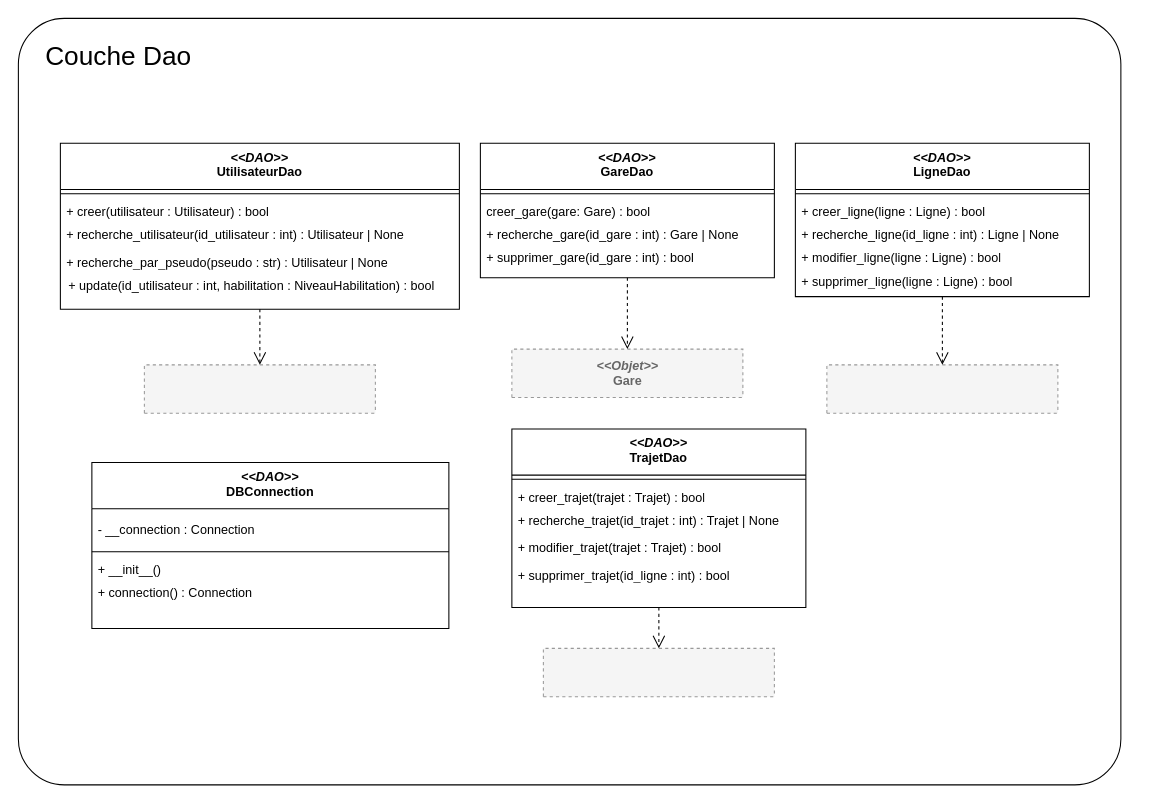
The diagram is 1171 pixels wide and 803 high, and some of its shapes have lost their labels. The shapes that lost their labels are listed below. From the top down, each one's centre as x and y in pixels, then its label:
[259,388]: <<Objet>> Utilisateur
[942,388]: <<Objet>> Ligne
[658,672]: <<Objet>> Trajet
